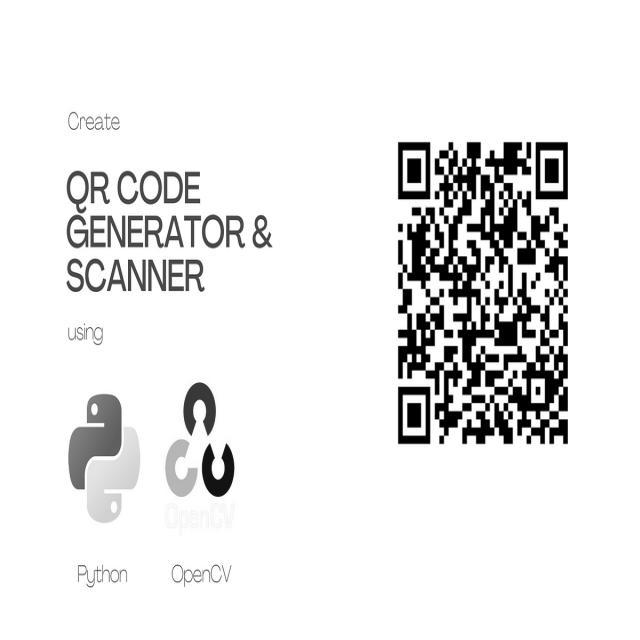QR-codes: (396, 138, 571, 450)
